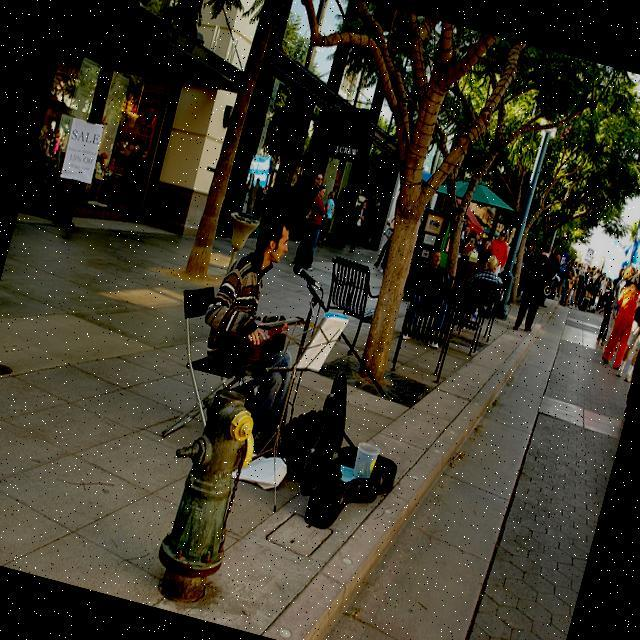fire_hydrant: (138, 379, 270, 608)
